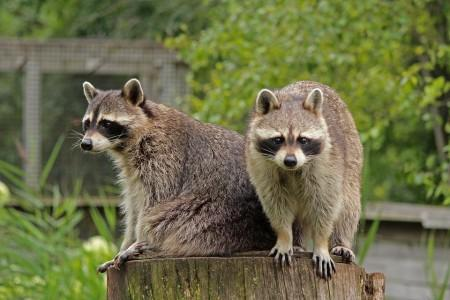raccoon: (80, 79, 307, 274), (245, 81, 363, 280)
